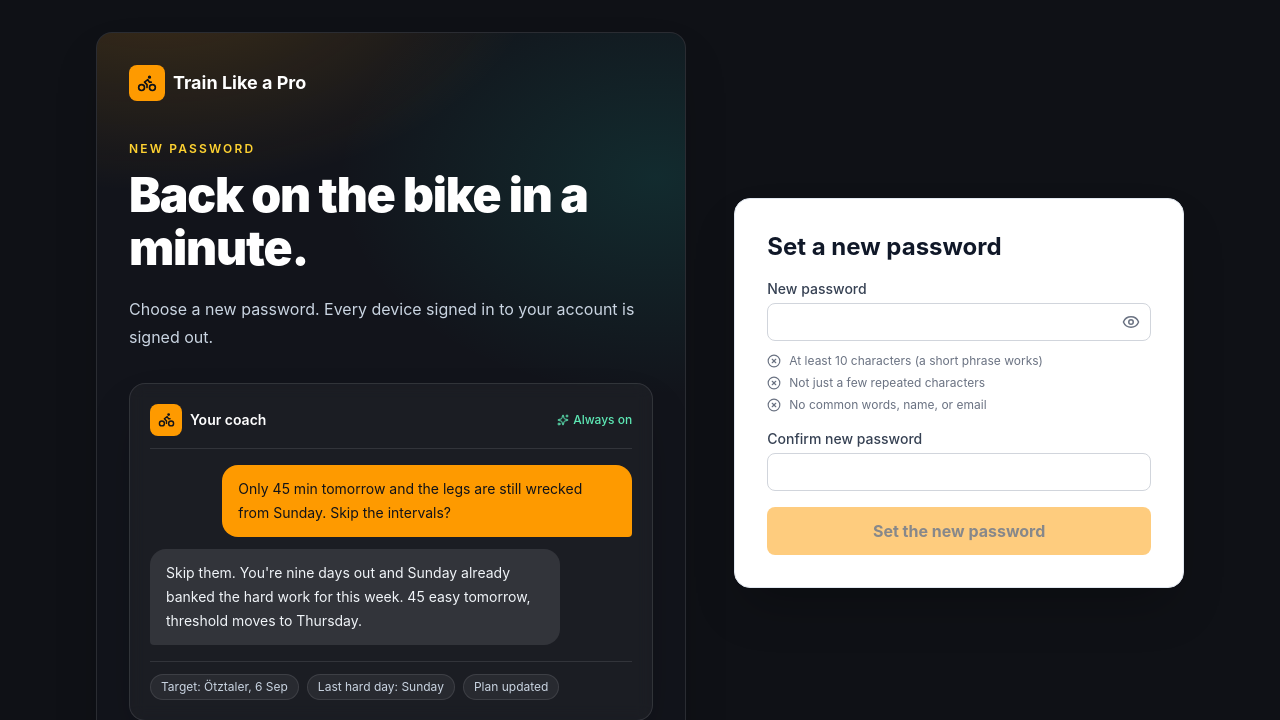
Test: ResetPasswordPage › offers no submit until the password meets the rules and both fields match
In the password field labelled "New password": (959, 322) [767, 303, 1151, 341], type "short"
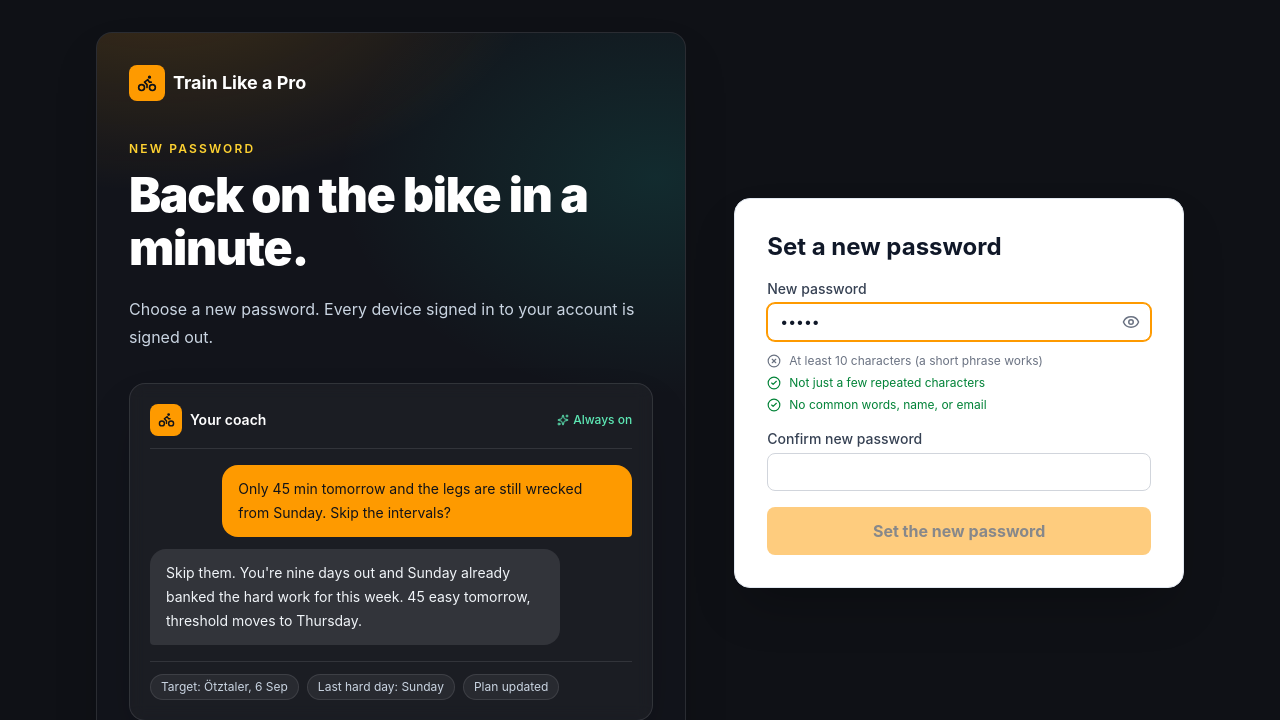
In the password field labelled "Confirm new password": (959, 472) [767, 453, 1151, 491], type "short"
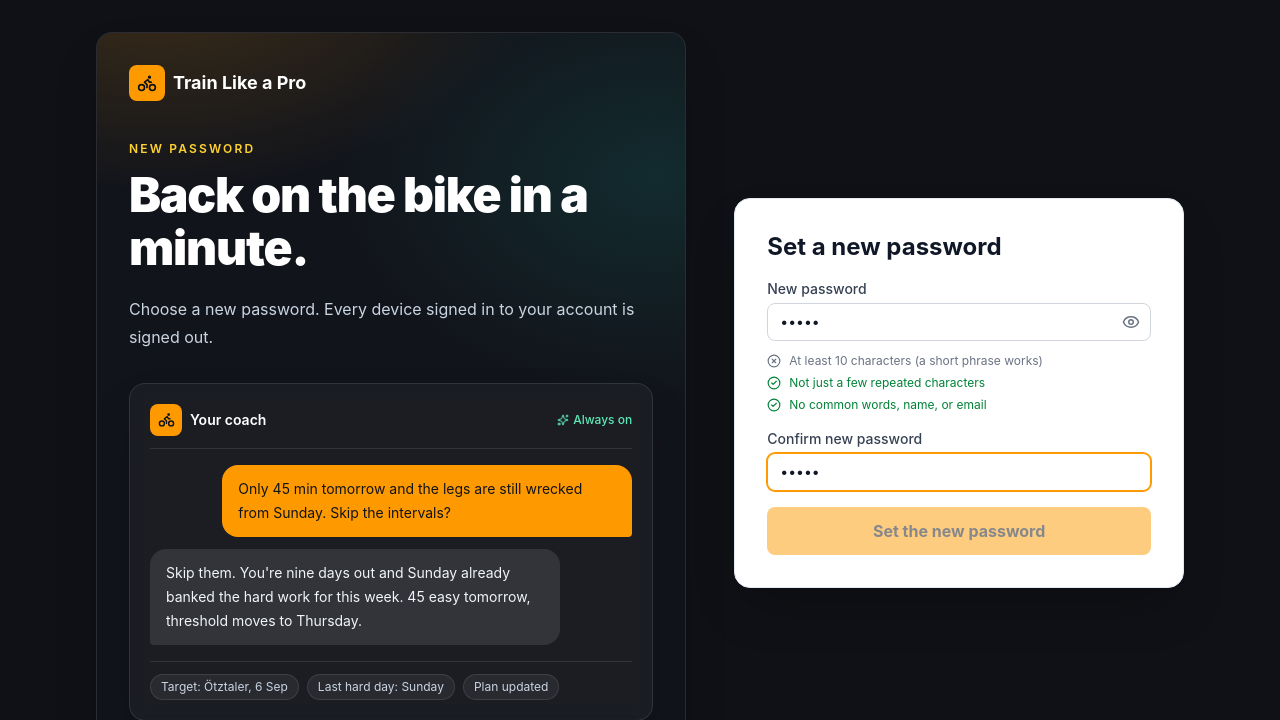
Expected: the button "Set the new password" is disabled, [767, 507, 1151, 555]
Clear the password field labelled "New password": (959, 322) [767, 303, 1151, 341]
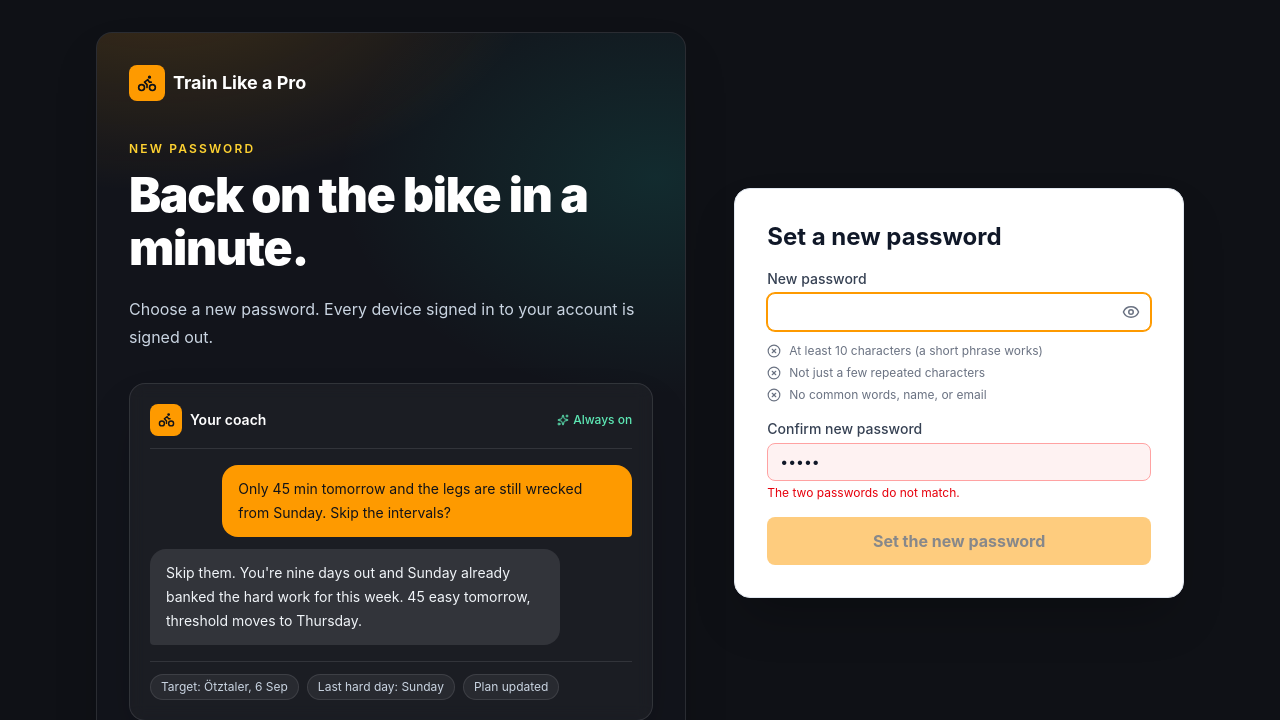
Clear the password field labelled "Confirm new password": (959, 462) [767, 443, 1151, 481]
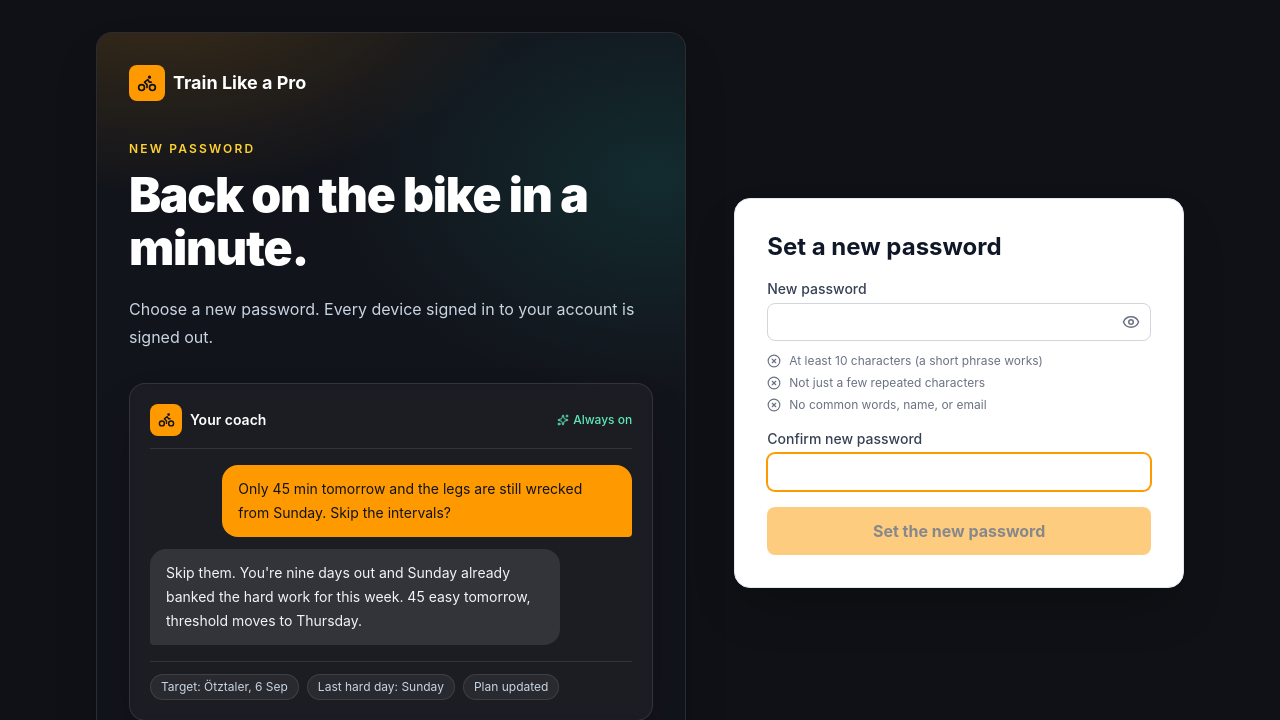
In the password field labelled "New password": (959, 322) [767, 303, 1151, 341], type "gravel climbs at dawn"
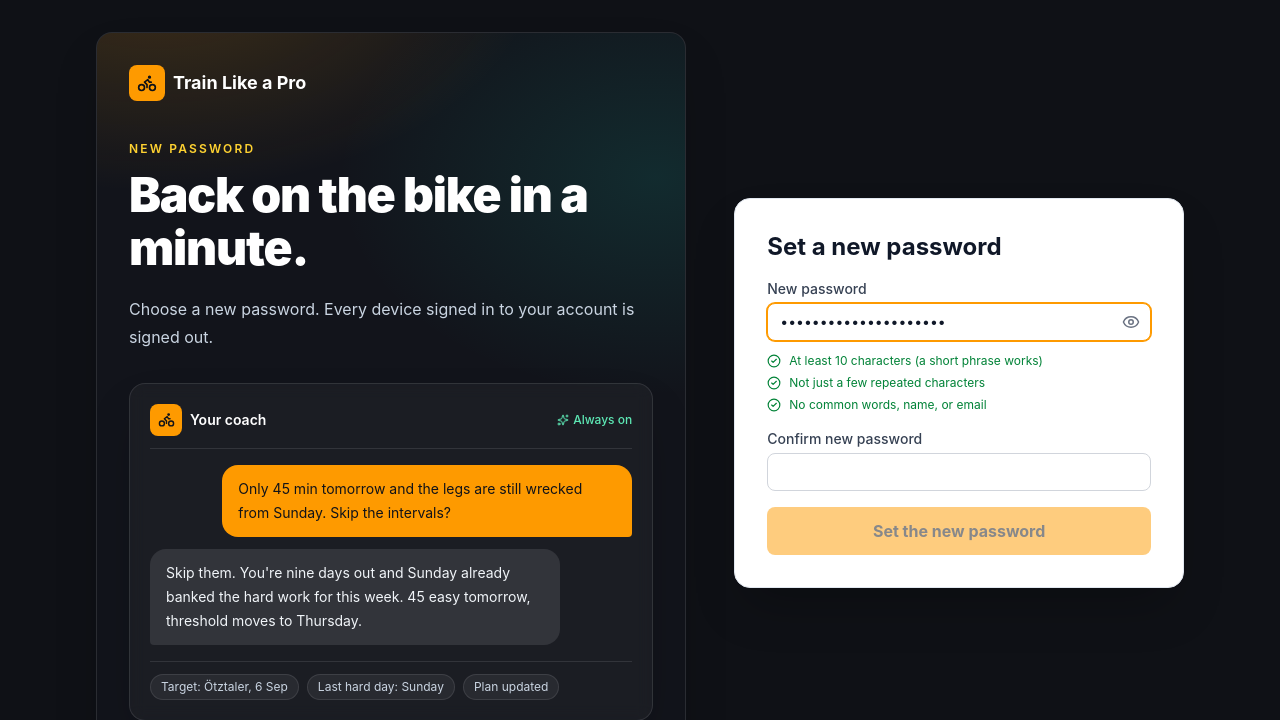
In the password field labelled "Confirm new password": (959, 472) [767, 453, 1151, 491], type "gravel climbs at dusk"
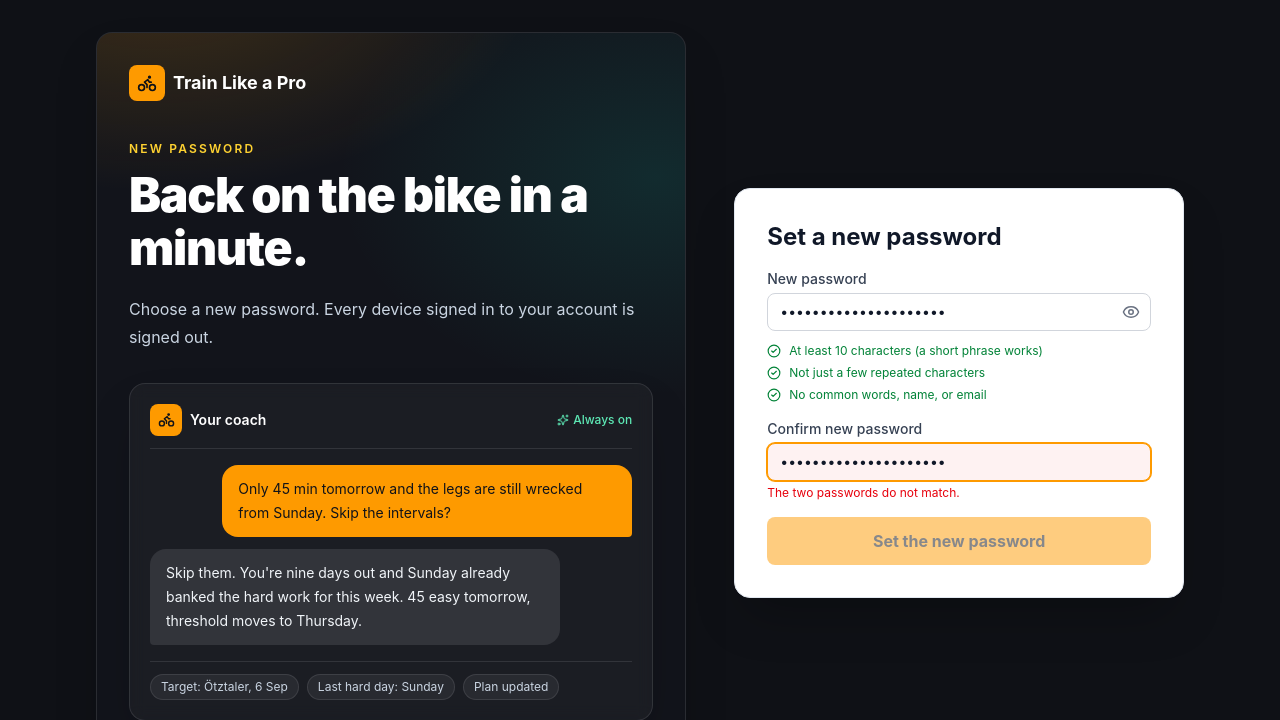
Expected: the button "Set the new password" is disabled, [767, 517, 1151, 565]
Expected: the text "The two passwords do not match." is shown, [767, 485, 960, 500]
